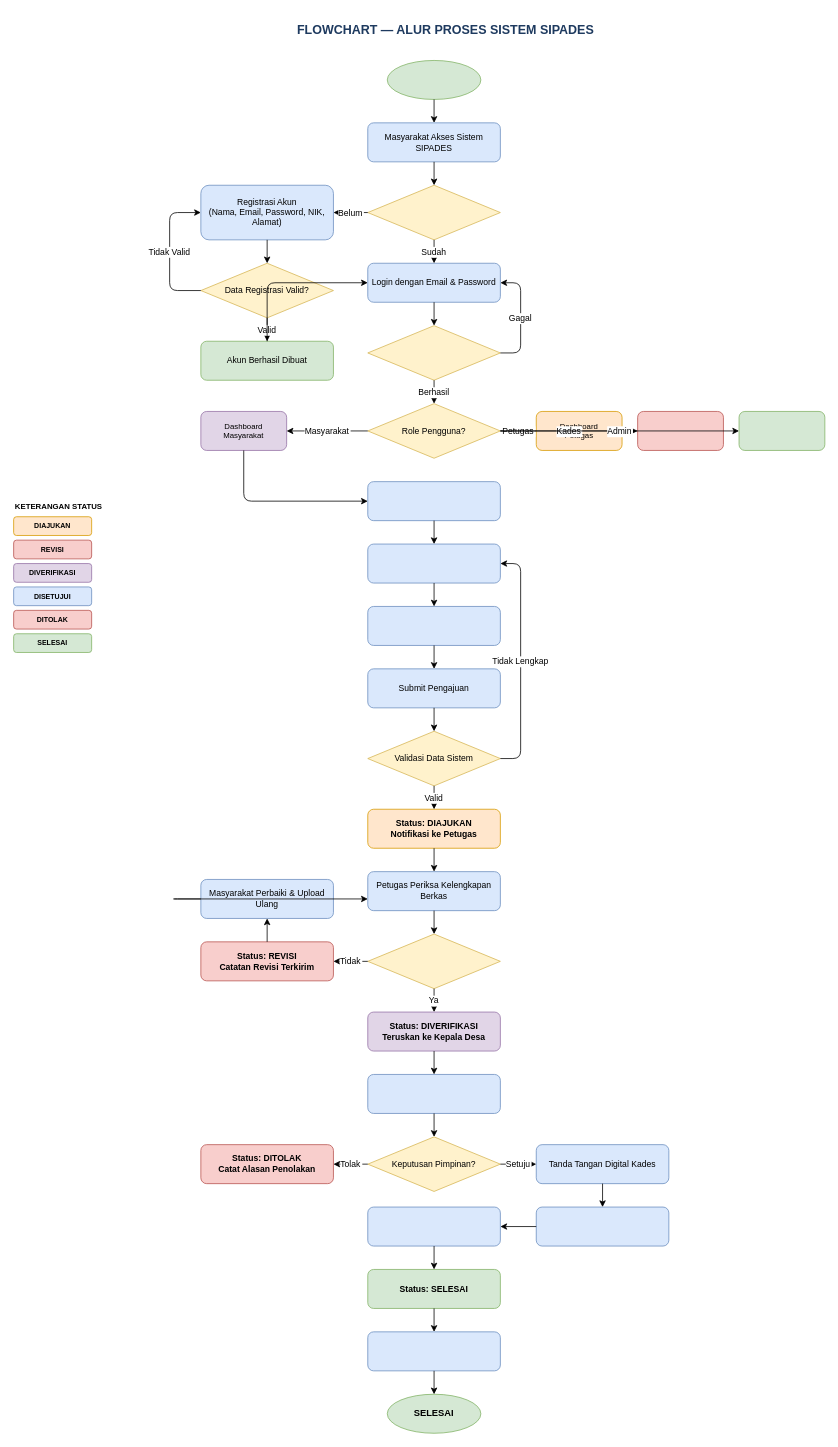
The diagram is 838 pixels wide and 1447 high, and some of its shapes have lost their labels. The shapes that lost their labels are listed below. From the top down, each one's centre as x and y in pixels, then its label:
(x=433, y=79): MULAI
(x=433, y=212): Sudah Punya Akun?
(x=433, y=352): Autentikasi Berhasil?
(x=680, y=430): Dashboard Kepala Desa
(x=781, y=430): Dashboard Admin
(x=433, y=501): Pilih Jenis Surat dari Katalog
(x=433, y=563): Isi Formulir Online
(x=433, y=625): Upload Berkas Persyaratan (KTP, KK, Surat RT/RW)
(x=433, y=961): Berkas Lengkap & Valid?
(x=433, y=1093): Kepala Desa Review Pengajuan
(x=433, y=1226): Sistem Generate Surat PDF
(x=602, y=1226): Status: DISETUJUI
(x=433, y=1351): Masyarakat Download Surat Keterangan
